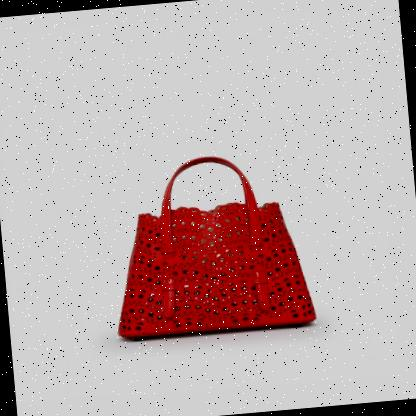bag: (98, 145, 320, 348)
